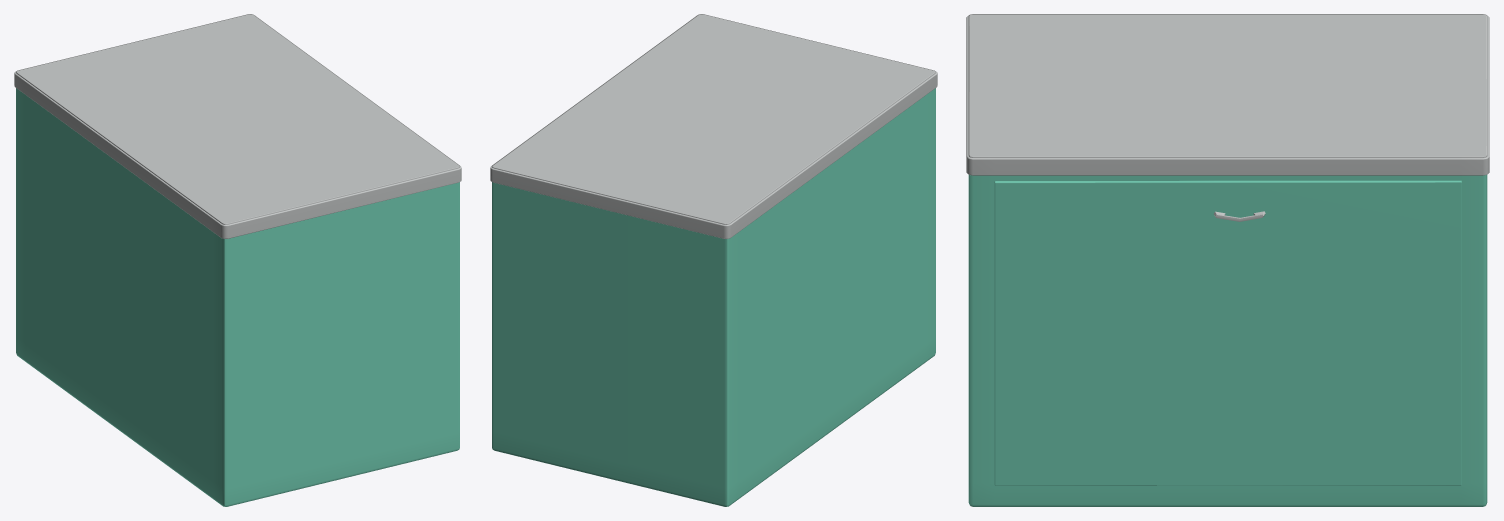
Rendered from Cabinet_Long_2_GEO.fbx.
The picture shows the model from 3 angles, left to right: view 1: azimuth 30°, elevation 25°; view 2: azimuth 150°, elevation 25°; view 3: azimuth 270°, elevation 25°; orthographic projection. The views are drawn at different scales.
Visible parts, largest first — view 1: Cabinet_Body_GEO, Cabinet_Metal_Rim_GEO; view 2: Cabinet_Body_GEO, Cabinet_Metal_Rim_GEO; view 3: Cabinet_Door_GEO, Cabinet_Body_GEO, Cabinet_Metal_Rim_GEO.
Boxes of the visible parts, x1,y1,x2,y2 form: Cabinet_Body_GEO: [16, 14, 459, 506]; Cabinet_Metal_Rim_GEO: [14, 16, 461, 238]; Cabinet_Body_GEO: [492, 14, 935, 506]; Cabinet_Metal_Rim_GEO: [490, 16, 937, 238]; Cabinet_Door_GEO: [994, 180, 1461, 485]; Cabinet_Body_GEO: [968, 14, 1487, 506]; Cabinet_Metal_Rim_GEO: [966, 15, 1489, 175].
Bounding box in the file's own units: 11.61 × 12.84 × 17.32.
1 material, 1 textured.
